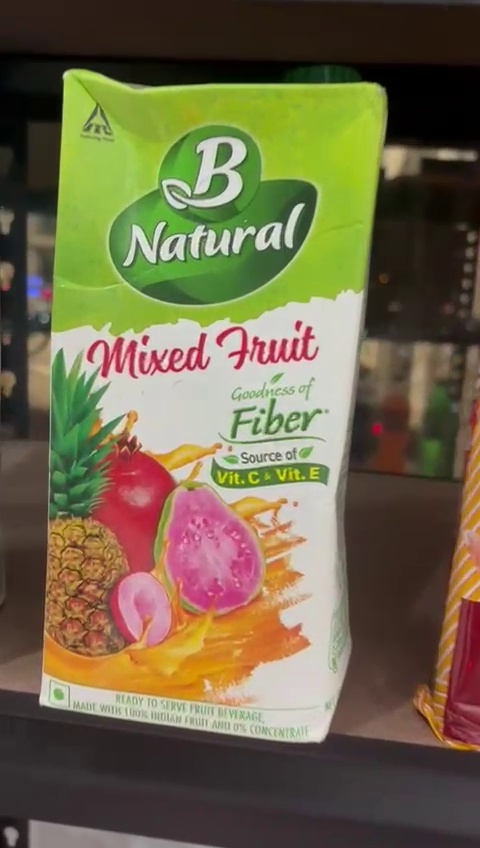Mixed Fruit: (51, 68, 353, 732)
